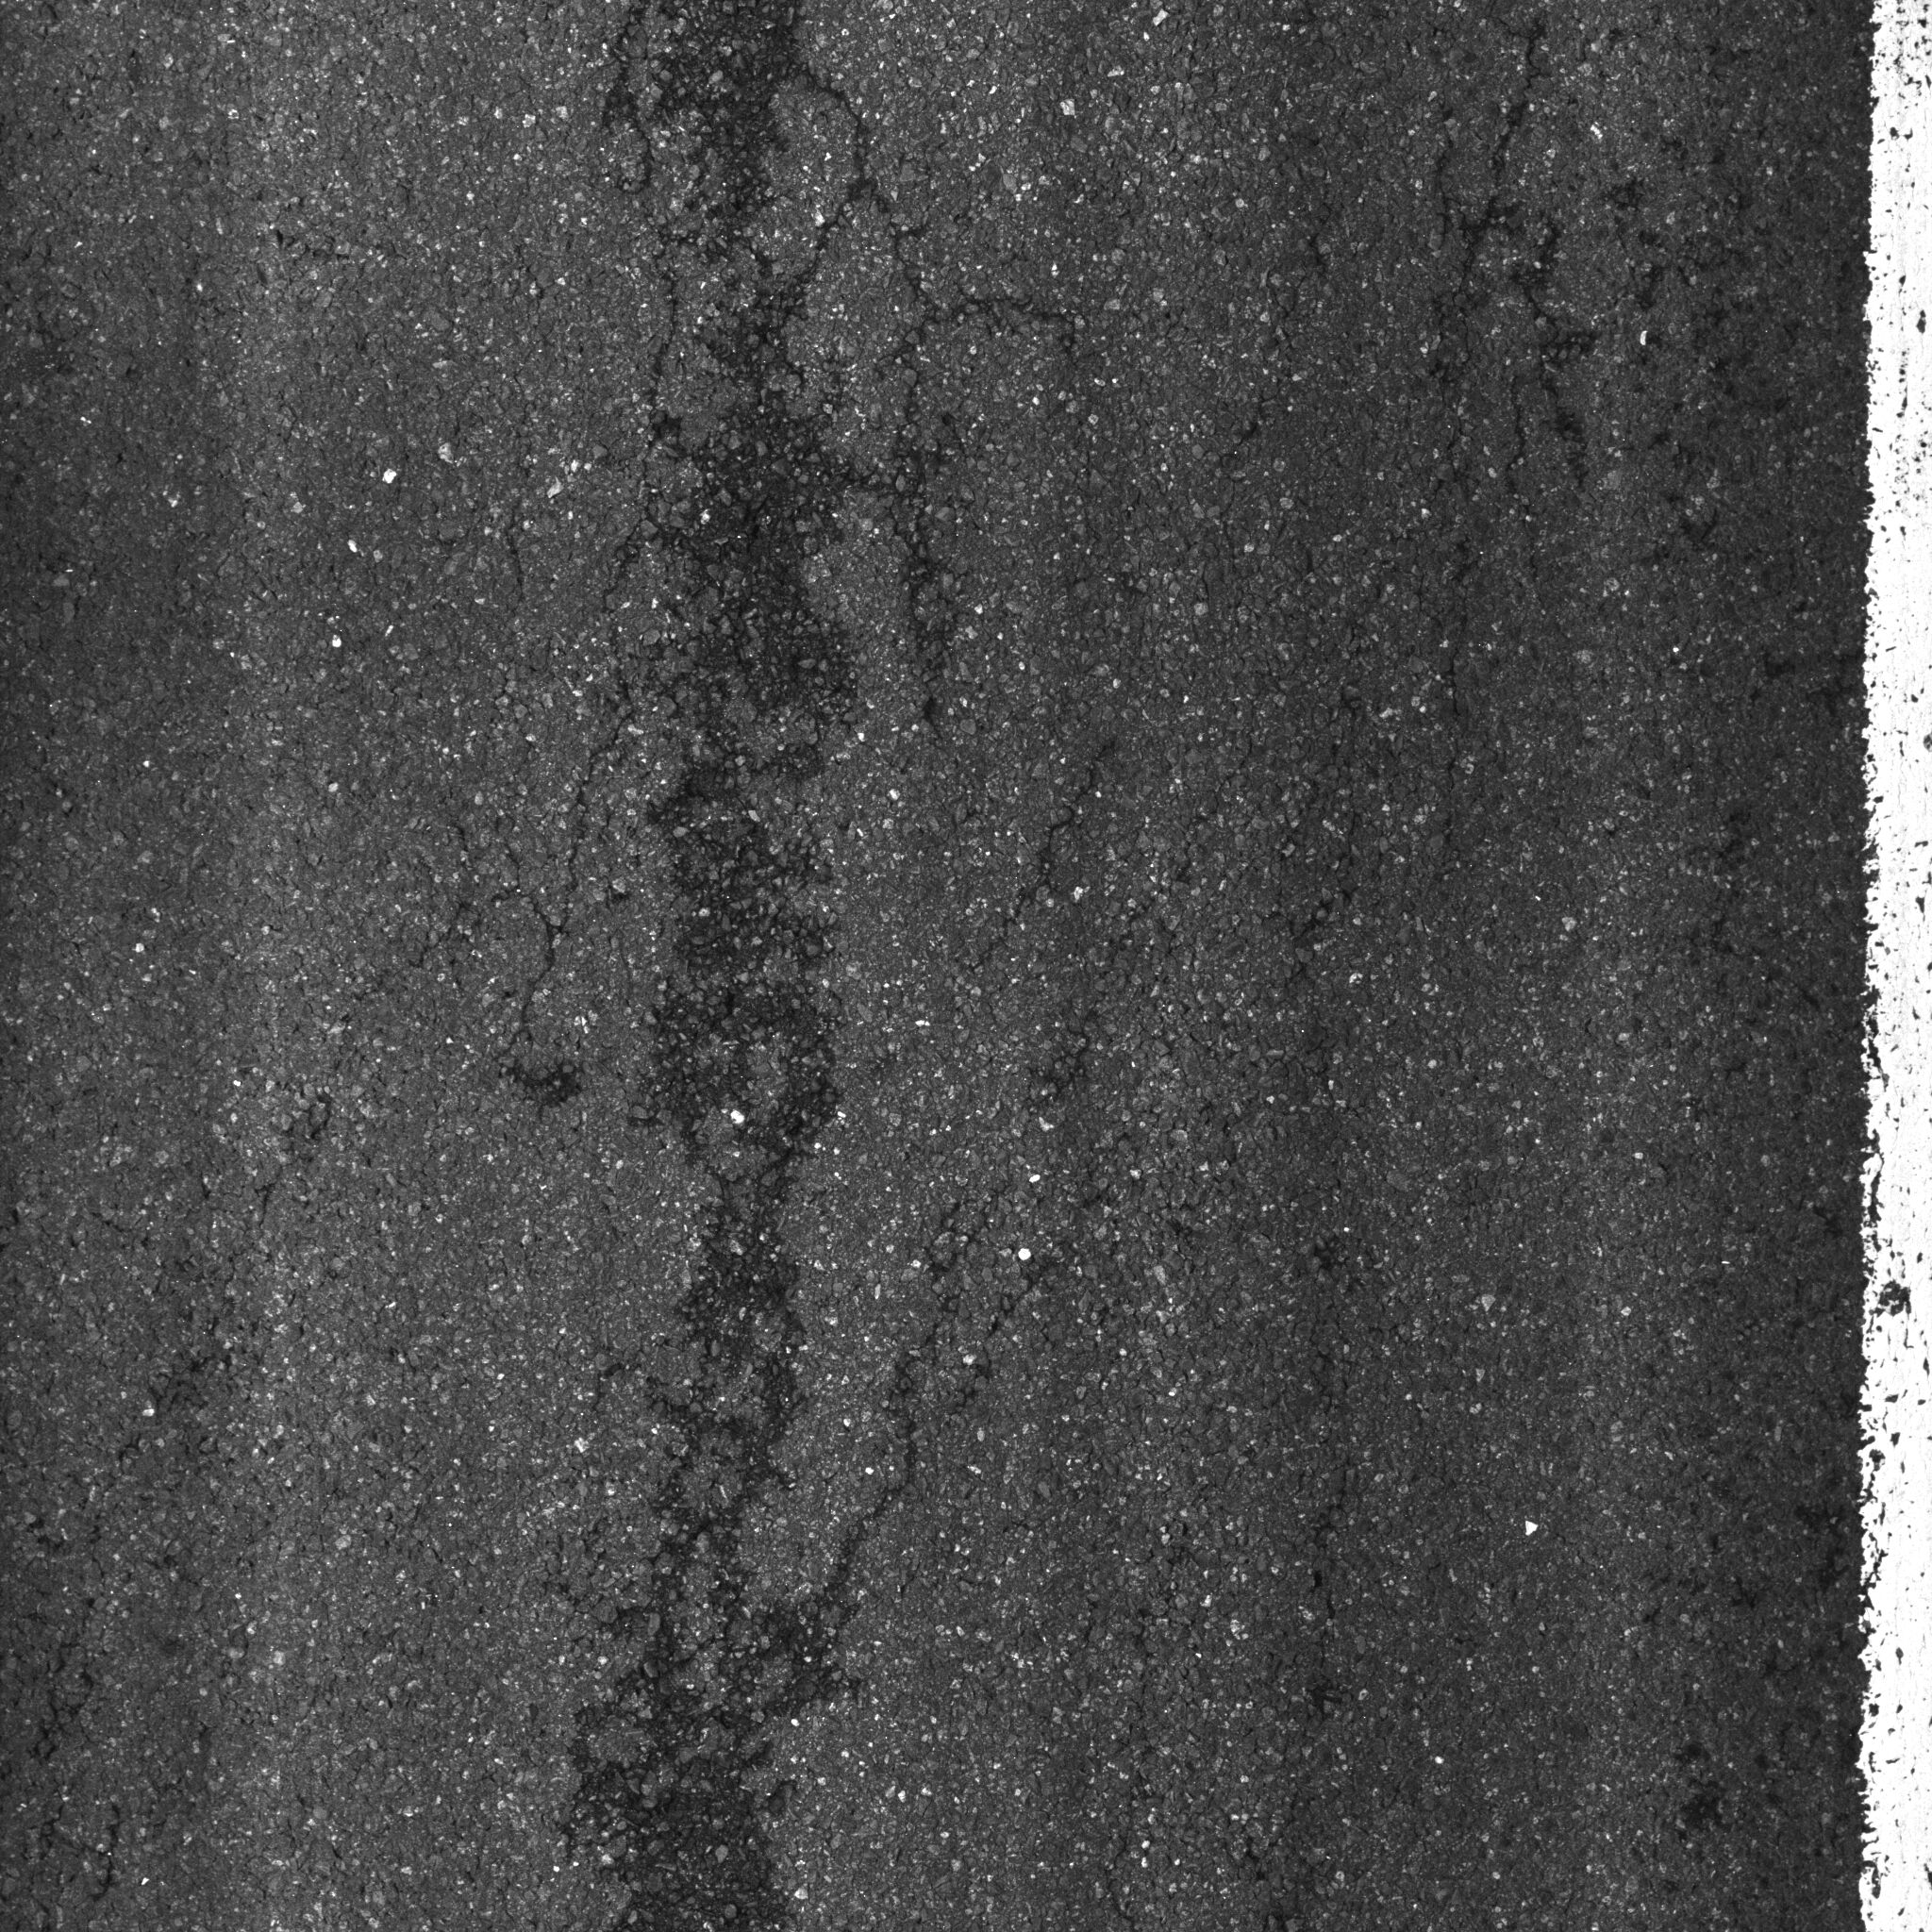alligator: (403, 2, 1175, 1927), (1348, 2, 1867, 623)
